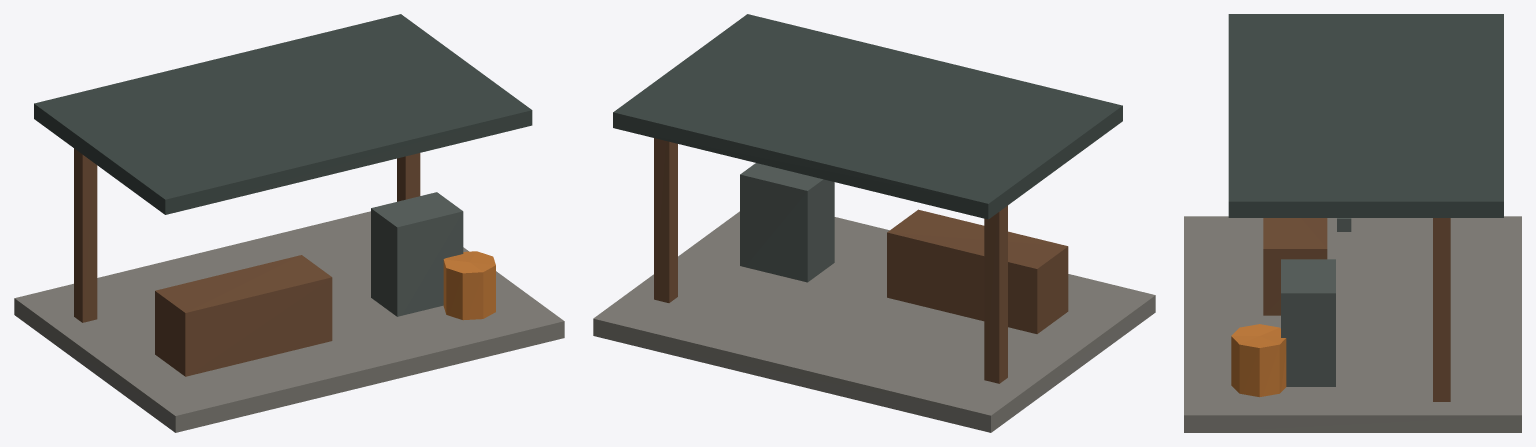
The model's file is Repair-Shed.glb.
3 views of the same model, side by side, from view 1: azimuth 30°, elevation 25°; view 2: azimuth 150°, elevation 25°; view 3: azimuth 270°, elevation 25° (orthographic). The views are drawn at different scales.
Visible parts, largest first — view 1: repair-shed-static-repair-roof, repair-shed-static-repair-concrete, repair-shed-static-repair-timber, repair-shed-static-repair-metal, repair-shed-static-repair-safety-orange; view 2: repair-shed-static-repair-roof, repair-shed-static-repair-concrete, repair-shed-static-repair-timber, repair-shed-static-repair-metal; view 3: repair-shed-static-repair-roof, repair-shed-static-repair-concrete, repair-shed-static-repair-timber, repair-shed-static-repair-metal, repair-shed-static-repair-safety-orange.
Part boxes in pixels (<box>): repair-shed-static-repair-roof: <box>34,14,532,214</box>; repair-shed-static-repair-concrete: <box>14,211,564,432</box>; repair-shed-static-repair-timber: <box>74,148,420,376</box>; repair-shed-static-repair-metal: <box>371,192,463,316</box>; repair-shed-static-repair-safety-orange: <box>443,251,495,320</box>; repair-shed-static-repair-roof: <box>613,14,1122,219</box>; repair-shed-static-repair-concrete: <box>593,211,1155,432</box>; repair-shed-static-repair-timber: <box>654,138,1068,383</box>; repair-shed-static-repair-metal: <box>740,163,834,282</box>; repair-shed-static-repair-roof: <box>1228,14,1503,217</box>; repair-shed-static-repair-concrete: <box>1184,216,1521,432</box>; repair-shed-static-repair-timber: <box>1263,218,1450,401</box>; repair-shed-static-repair-metal: <box>1281,218,1351,386</box>; repair-shed-static-repair-safety-orange: <box>1231,324,1286,397</box>.
Size of the model in its own units: 5.3 by 2.8 by 3.8.
